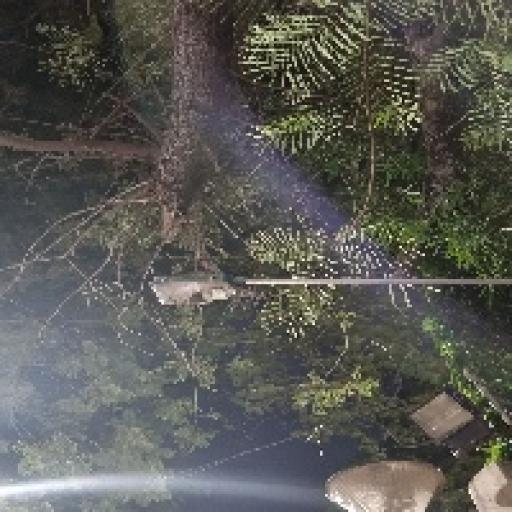Not Working: (142, 257, 257, 330)
